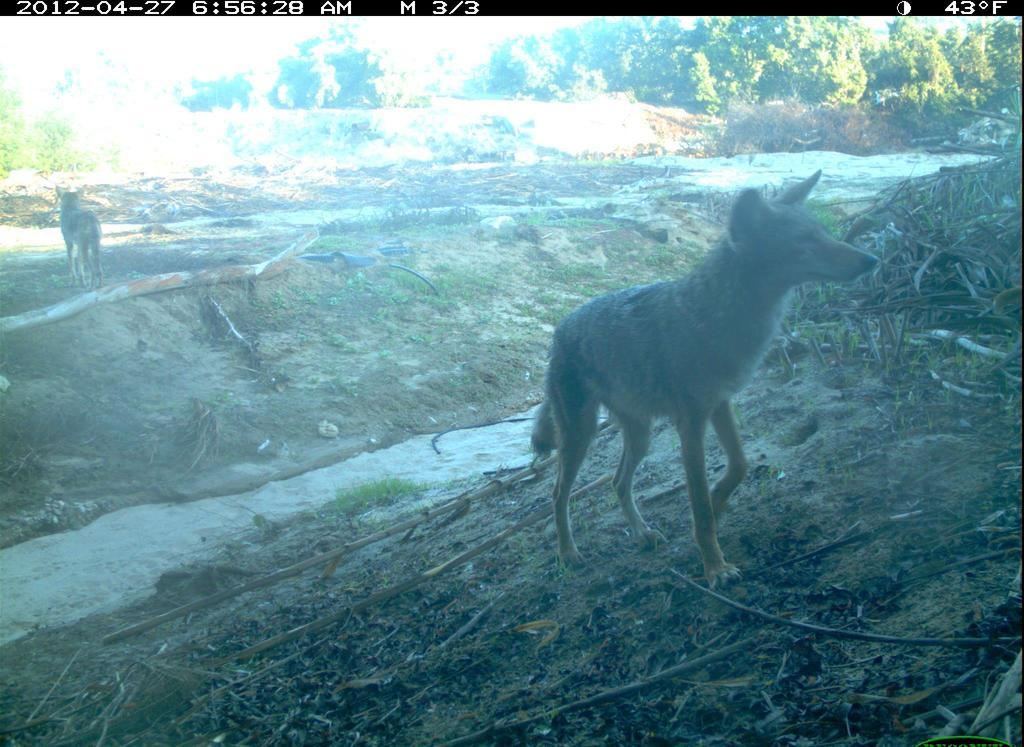coyote: (524, 194, 934, 585), (33, 169, 139, 337)
